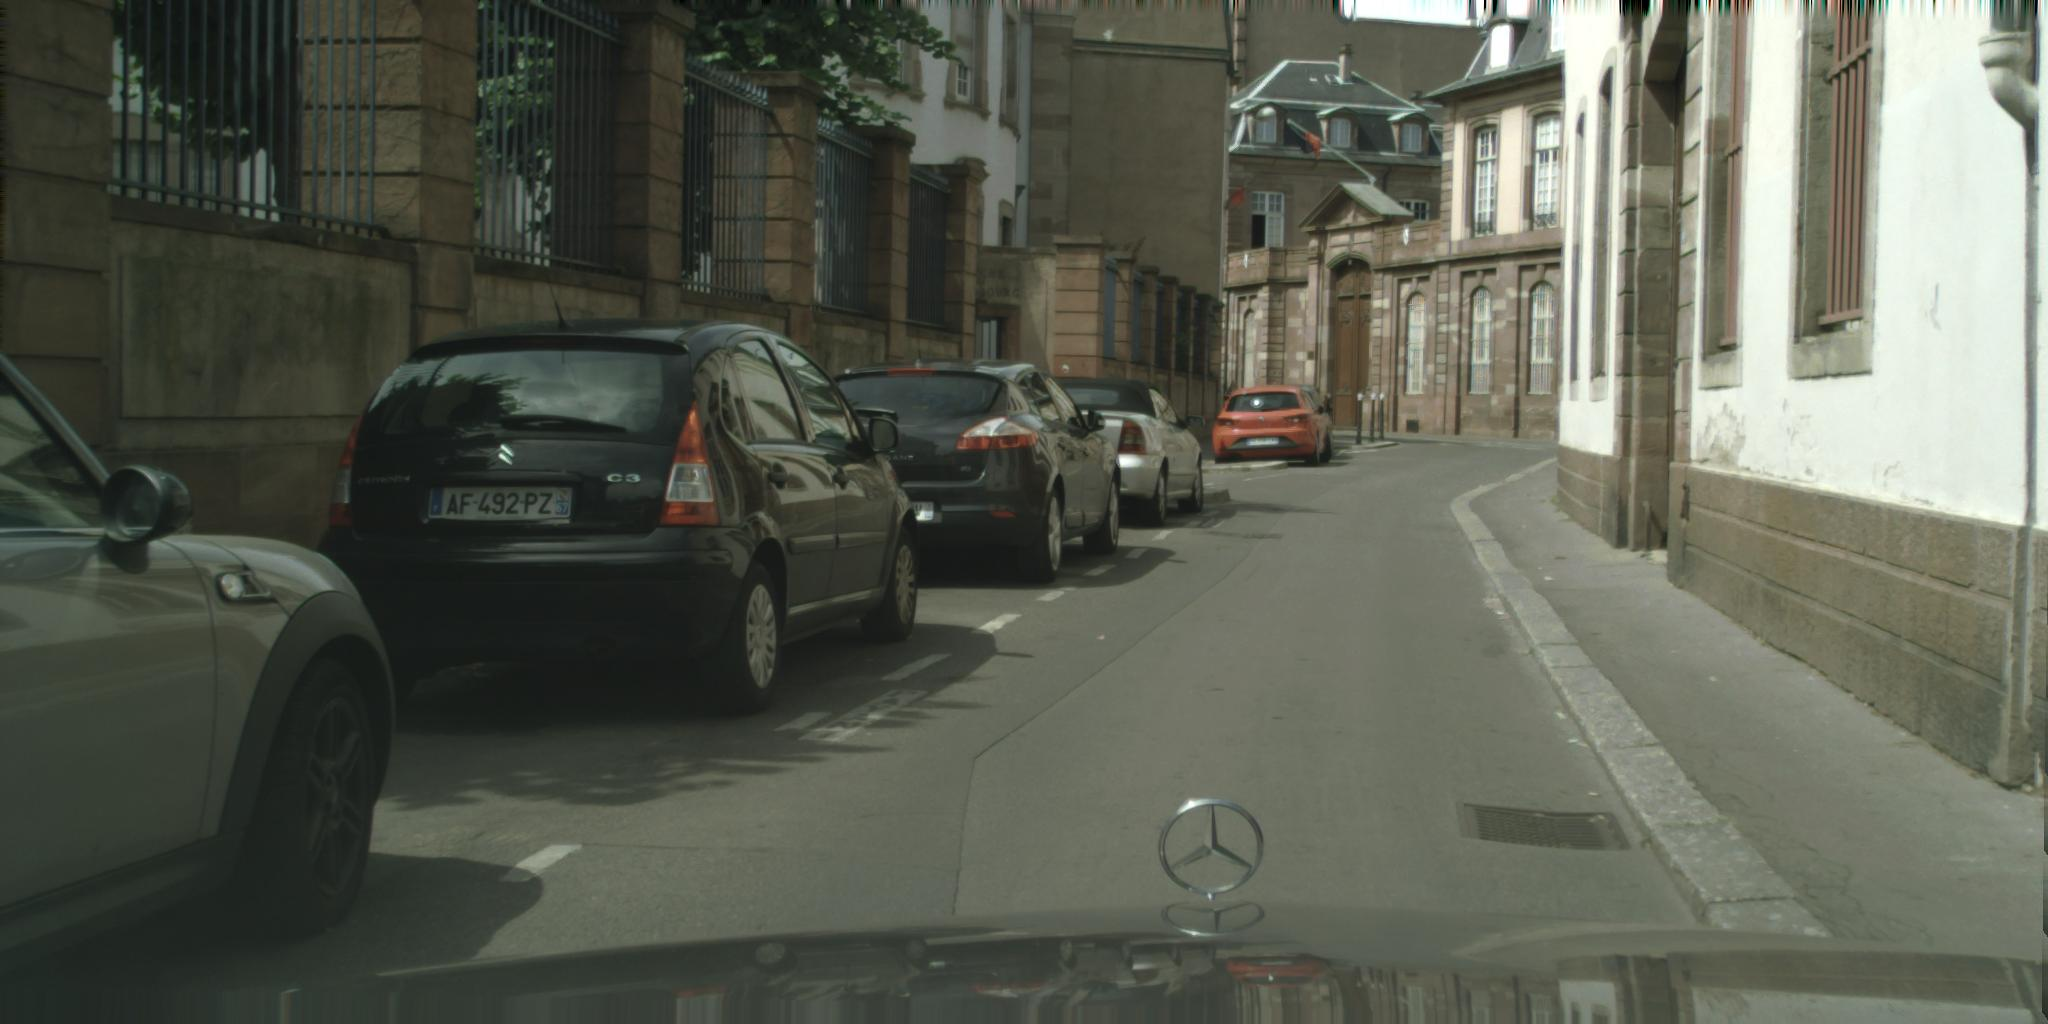car: (208, 317, 922, 728), (1, 353, 394, 978), (816, 359, 1123, 583), (1032, 377, 1207, 526), (1212, 387, 1334, 468), (1240, 387, 1328, 435)
